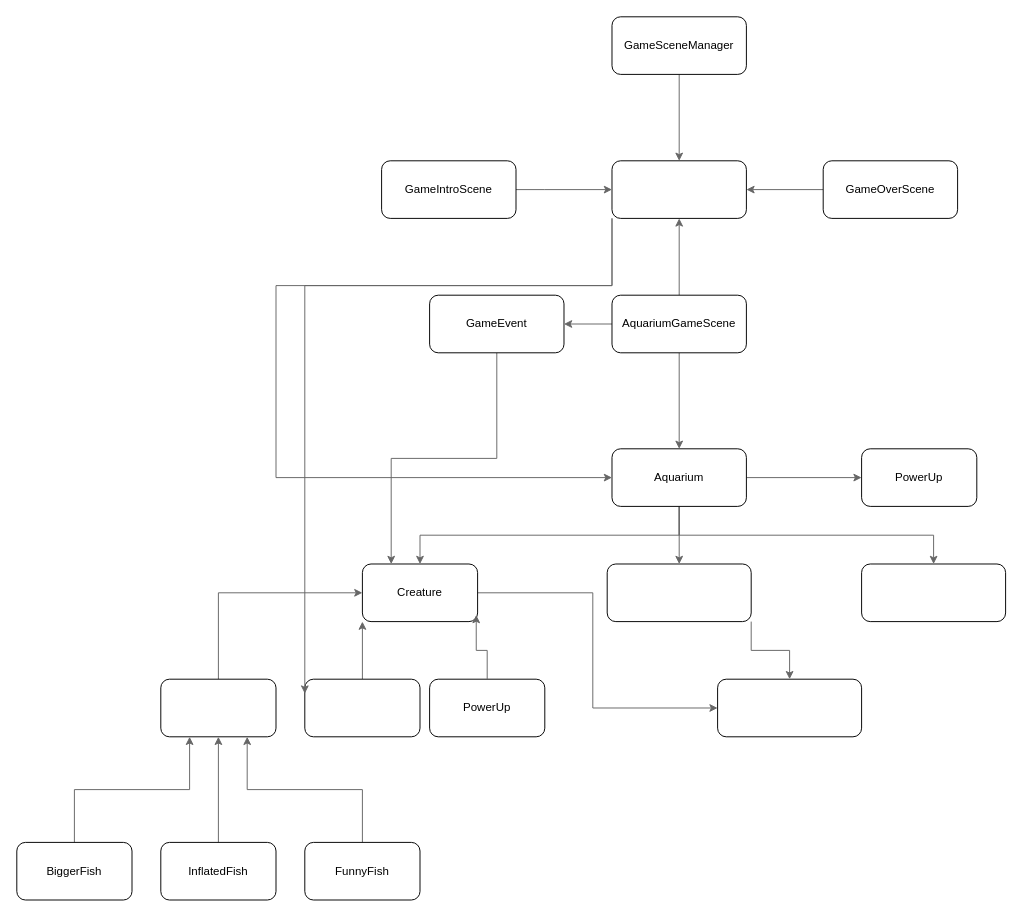
The diagram is 1022 pixels wide and 917 high, and some of its shapes have lost their labels. The shapes that lost their labels are listed below. From the top down, each one's centre as x and y in pixels, then its label:
At point (678, 189): "GameScene".
At point (678, 592): "AquariumSpriteManager".
At point (933, 592): "AquariumLevel".
At point (218, 707): "NPCreature".
At point (362, 707): "PlayerCreature".
At point (789, 707): "GameSprite".
